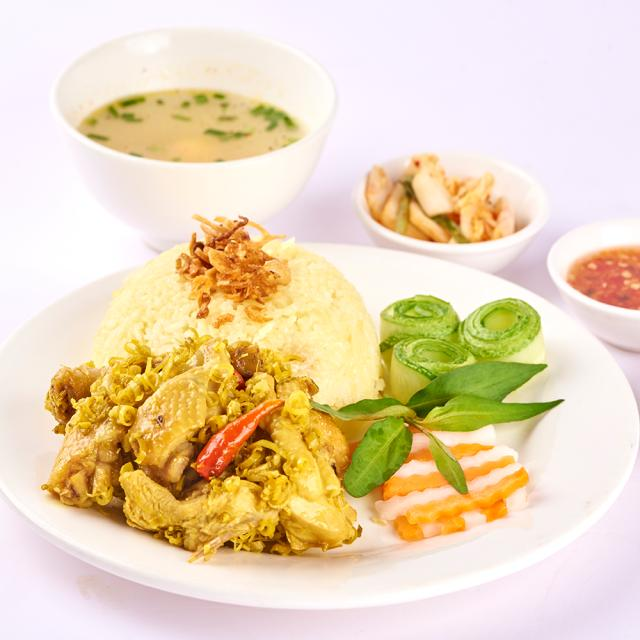ga kho: (46, 332, 358, 561)
nuoc mam: (568, 247, 639, 309)
rau: (79, 90, 305, 162)
